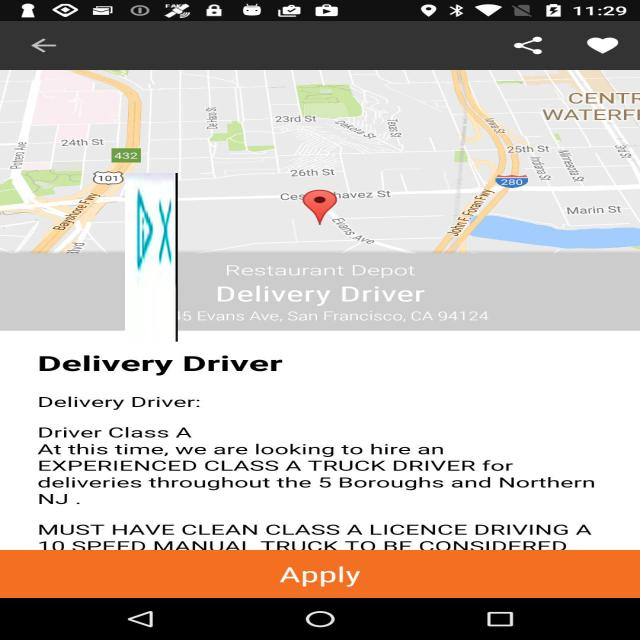sneaking: (125, 173, 178, 342)
